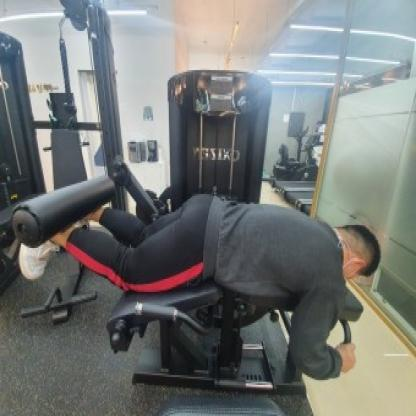reg curl machine: (10, 66, 384, 404)
